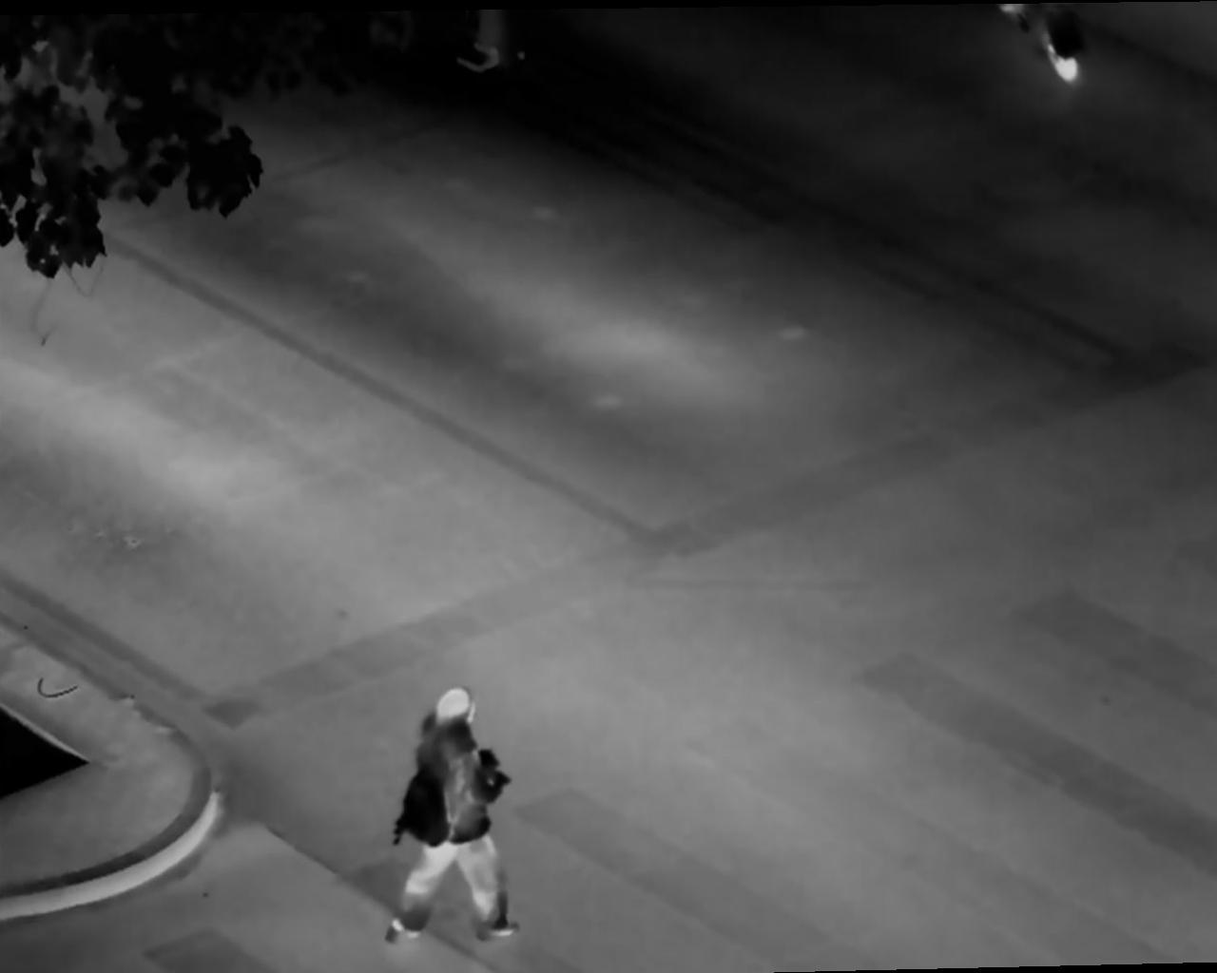person: (394, 677, 519, 954)
